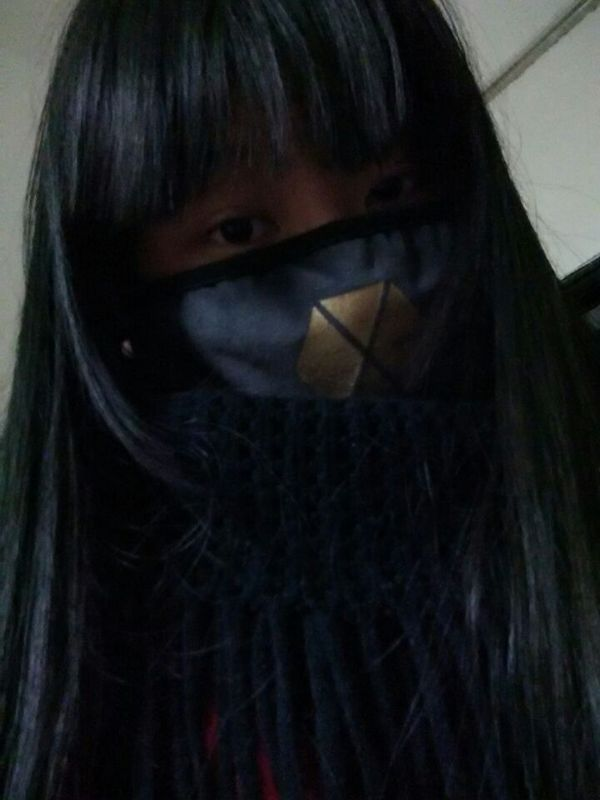face_mask: (152, 89, 438, 419)
